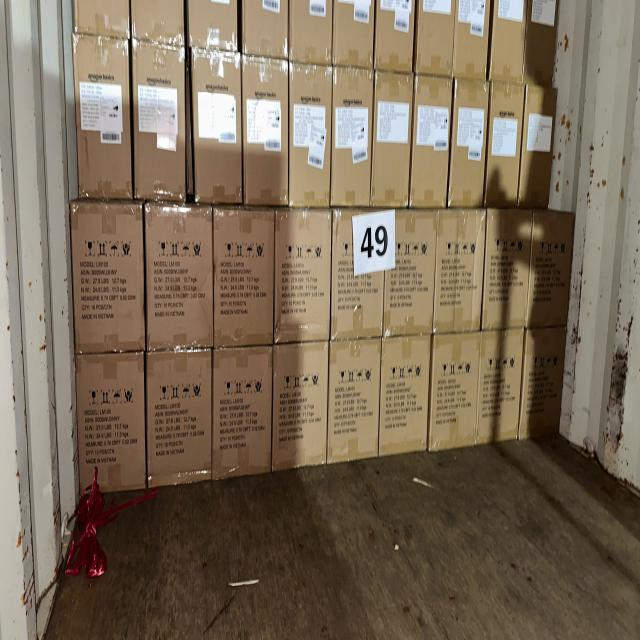Carton: (68, 200, 145, 353), (143, 205, 215, 351), (74, 354, 145, 492), (72, 34, 130, 200), (145, 352, 212, 487), (132, 39, 188, 200), (212, 210, 274, 346), (192, 51, 243, 205), (212, 344, 272, 474), (272, 212, 330, 342), (245, 56, 291, 206), (331, 211, 384, 339), (274, 342, 328, 464), (329, 342, 380, 460), (289, 66, 331, 208), (435, 209, 483, 329), (389, 212, 436, 334), (379, 335, 428, 452), (431, 332, 479, 450), (334, 71, 374, 208), (485, 208, 531, 327), (371, 75, 411, 207), (414, 78, 452, 210), (481, 329, 524, 443), (534, 214, 576, 330), (450, 82, 486, 210), (488, 86, 524, 210), (524, 331, 564, 441), (524, 88, 558, 212), (416, 0, 454, 78), (492, 0, 528, 82), (377, 0, 417, 73), (334, 0, 376, 68), (457, 0, 493, 79), (288, 0, 331, 66), (242, 0, 289, 60), (530, 0, 560, 85), (188, 0, 240, 49), (130, 0, 184, 44), (75, 0, 133, 39)
